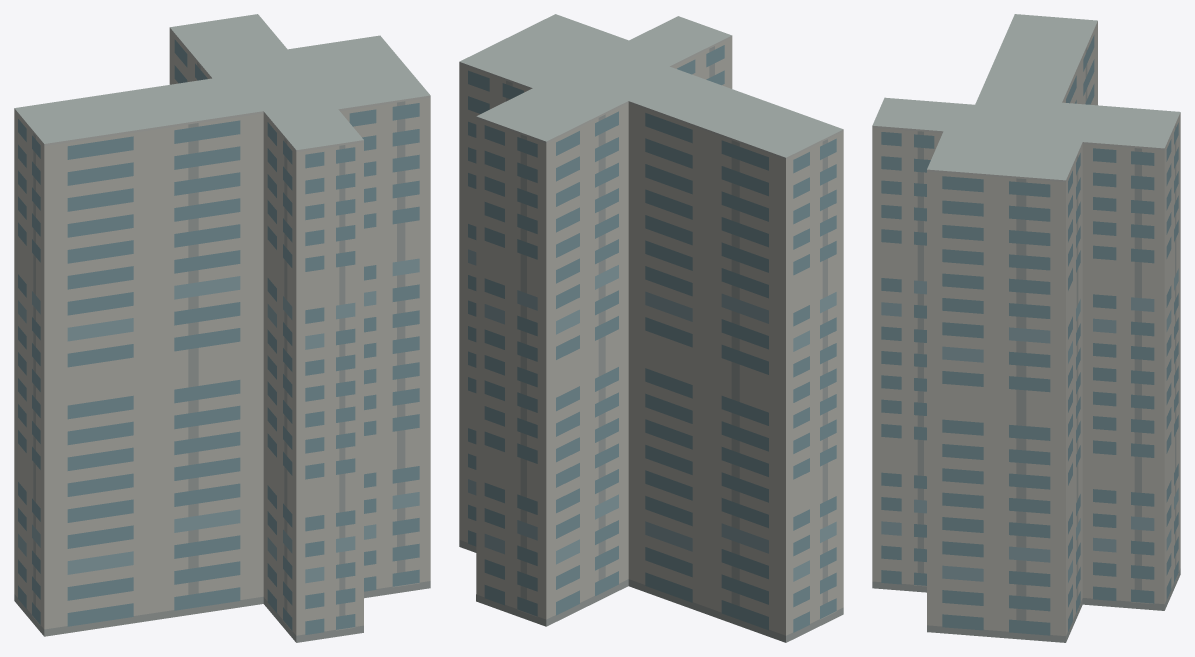
File: residential-f0e3d978-69b1-4d57-b8ca-8d5a02004d90.glb
The picture shows the model from 3 angles, left to right: view 1: azimuth 30°, elevation 25°; view 2: azimuth 150°, elevation 25°; view 3: azimuth 270°, elevation 25°; orthographic projection. The views are drawn at different scales.
Visible parts, largest first — view 1: residential-f0e3d978-69b1-4d57-b8ca-8d5a02004d90.tmp; view 2: residential-f0e3d978-69b1-4d57-b8ca-8d5a02004d90.tmp; view 3: residential-f0e3d978-69b1-4d57-b8ca-8d5a02004d90.tmp.
Boxes of the visible parts, left/top/right/bottom form: residential-f0e3d978-69b1-4d57-b8ca-8d5a02004d90.tmp: left=14, top=14, right=430, bottom=642; residential-f0e3d978-69b1-4d57-b8ca-8d5a02004d90.tmp: left=459, top=14, right=843, bottom=642; residential-f0e3d978-69b1-4d57-b8ca-8d5a02004d90.tmp: left=872, top=14, right=1180, bottom=642.
Size of the model in its own units: 46.29 by 60 by 36.26.
